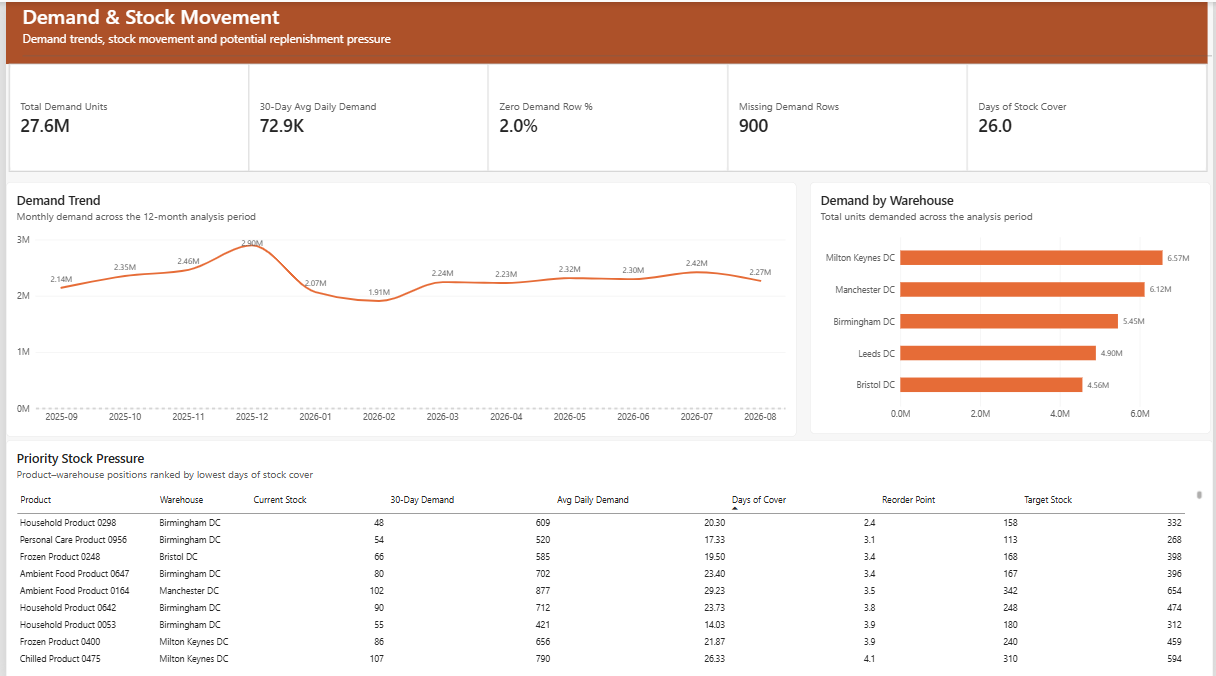

The dashboard page shown, as its layout file describes it:
{"tool":"powerbi","page":{"name":"Demand & Stock Movement","canvas":[1920,1080],"ordinal":2},"visuals":[{"type":"shape","box":[0,0,1911.3,98.9],"z":0},{"type":"shape","title":"Demand & Stock Movement","box":[26.4,0,1893.6,98.4],"z":1000},{"type":"cardVisual","fields":{"Data":["_Measures.Total Demand Units","_Measures.Average Daily Demand Last 30 Days","_Measures.Zero Demand Row %","_Measures.Missing Demand Row Count","_Measures.Days of Stock Cover"]},"box":[4.8,98.4,1910.4,172.8],"z":2000},{"type":"lineChart","title":"Demand Trend","fields":{"Y":["_Measures.Total Demand Units"],"Category":["DimDate.Year Month"]},"box":[0,286.3,1257.6,405.6],"z":3000},{"type":"clusteredBarChart","title":"Demand by Warehouse","fields":{"Category":["warehouses.warehouse_name"],"Y":["_Measures.Total Demand Units"]},"box":[1278.9,286.3,637,400.8],"z":4000},{"type":"tableEx","title":"Priority Stock Pressure","fields":{"Values":["products.product_name","warehouses.warehouse_name","_Measures.Current Stock Units","_Measures.Demand Units Last 30 Days","_Measures.Average Daily Demand Last 30 Days","_Measures.Days of Stock Cover","Sum(stock_targets.reorder_point_units)","Sum(stock_targets.target_stock_units)"]},"box":[0,696,1920,384],"z":5000}]}

Visuals, with their boxes in screenshot pixels (x1, y1, x2, y2), scaled from the page's 1920x1080 canvas onto the 1216x676 screenshot:
shape: 0/0/1210/62
"Demand & Stock Movement" shape: 17/0/1215/62
cardVisual - _Measures.Total Demand Units x _Measures.Average Daily Demand Last 30 Days: 3/62/1213/170
"Demand Trend" lineChart: 0/179/796/433
"Demand by Warehouse" clusteredBarChart: 810/179/1213/430
"Priority Stock Pressure" tableEx: 0/436/1215/675
